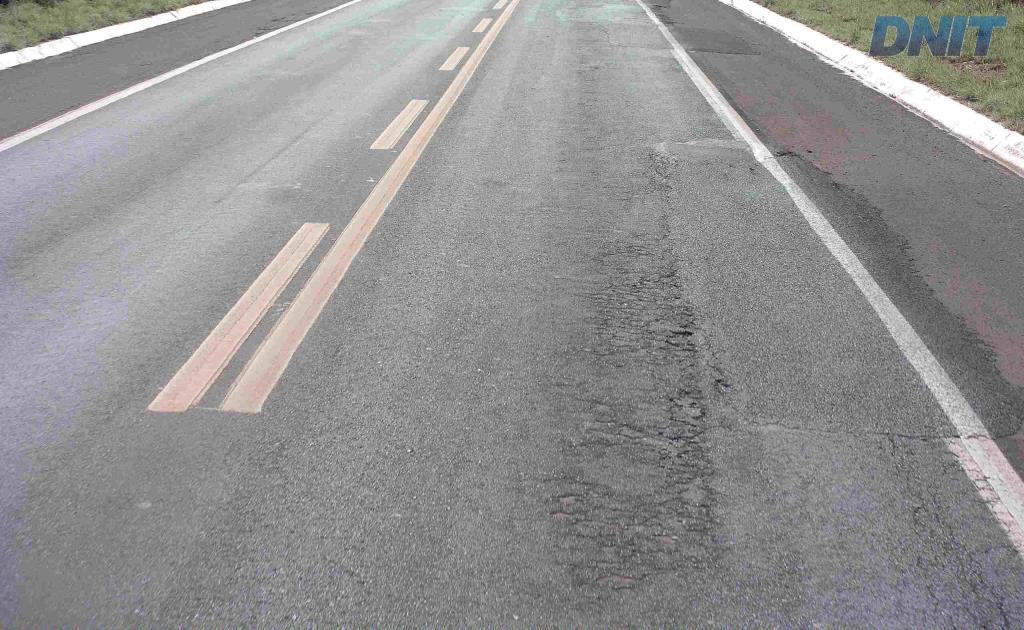crack: (566, 494, 669, 591), (651, 372, 714, 494), (665, 479, 724, 572), (553, 469, 605, 525), (627, 329, 701, 367), (654, 293, 699, 338), (579, 437, 649, 465), (594, 292, 629, 340), (647, 255, 682, 290)
